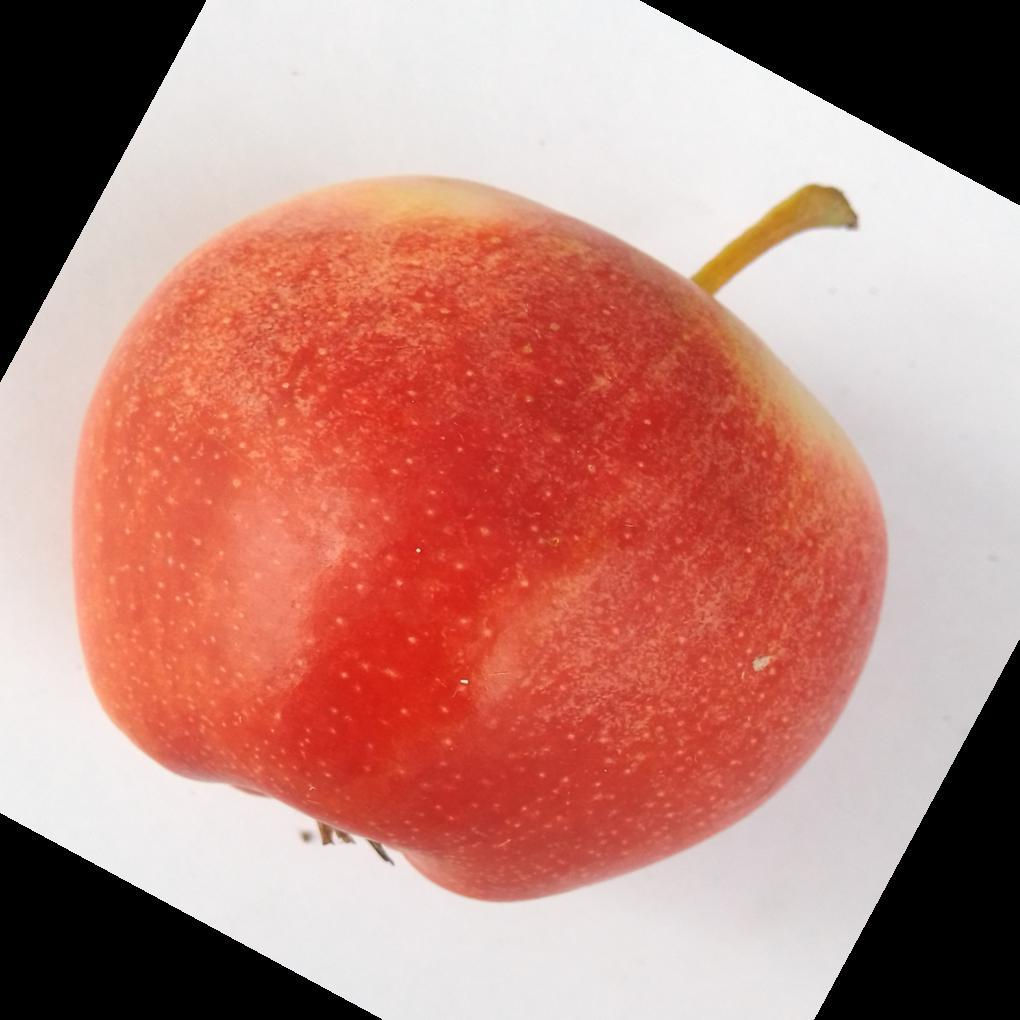FreshGuava: (67, 173, 890, 909)
